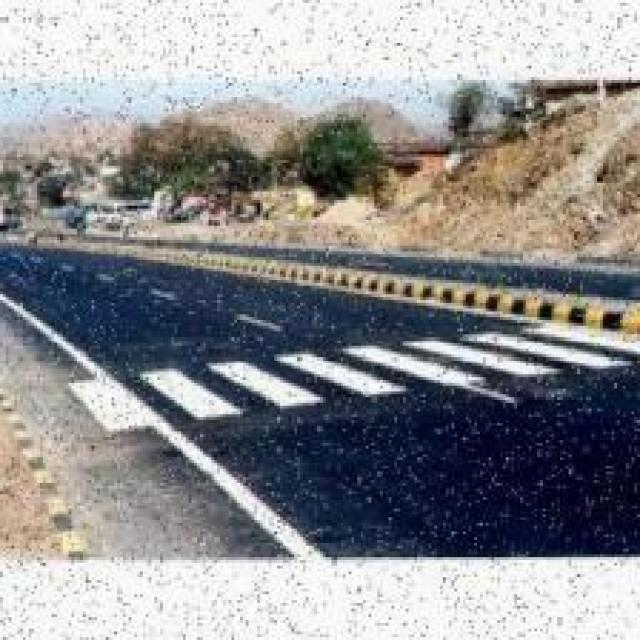walk-crossing: (89, 316, 637, 441)
